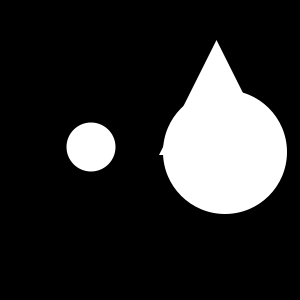rectangle: (163, 90, 287, 214), (66, 122, 116, 172)
triangle: (159, 40, 274, 155)
